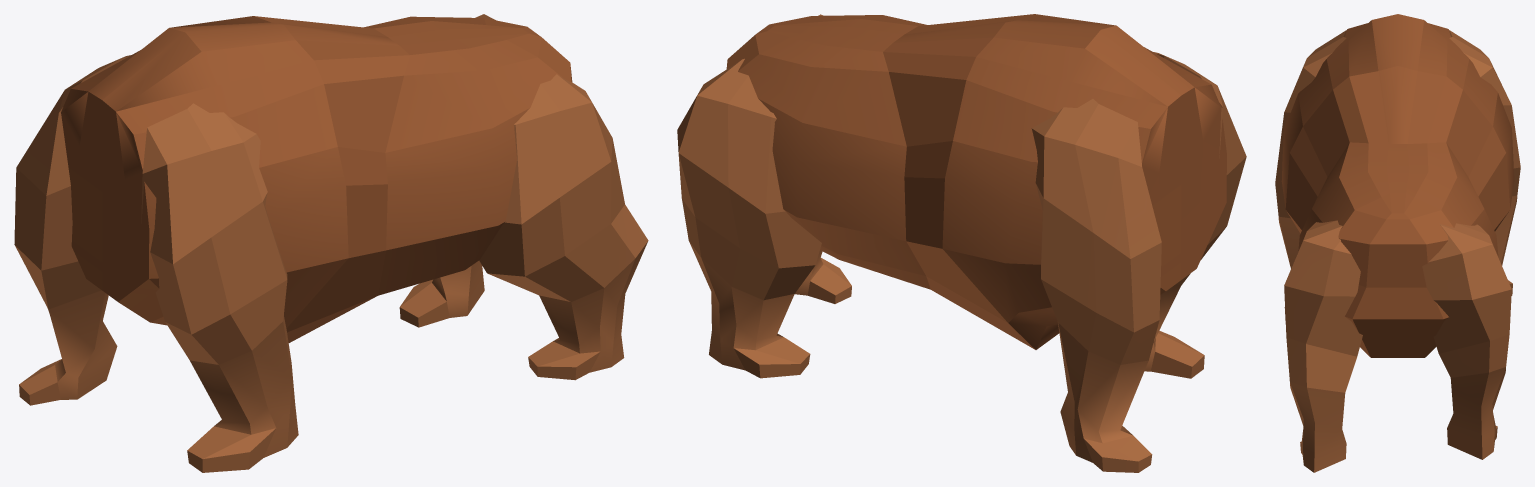
File: SM_Bear_Body.fbx
The picture shows the model from 3 angles, left to right: view 1: azimuth 30°, elevation 25°; view 2: azimuth 150°, elevation 25°; view 3: azimuth 270°, elevation 25°; orthographic projection. The views are drawn at different scales.
Visible parts, largest first — view 1: SM_Bear_Body; view 2: SM_Bear_Body; view 3: SM_Bear_Body.
Part boxes in pixels (left/top/right/bottom): SM_Bear_Body: left=14, top=14, right=648, bottom=472; SM_Bear_Body: left=677, top=14, right=1246, bottom=472; SM_Bear_Body: left=1275, top=14, right=1520, bottom=472.
Size of the model in its own units: 109 by 78.84 by 56.52.
